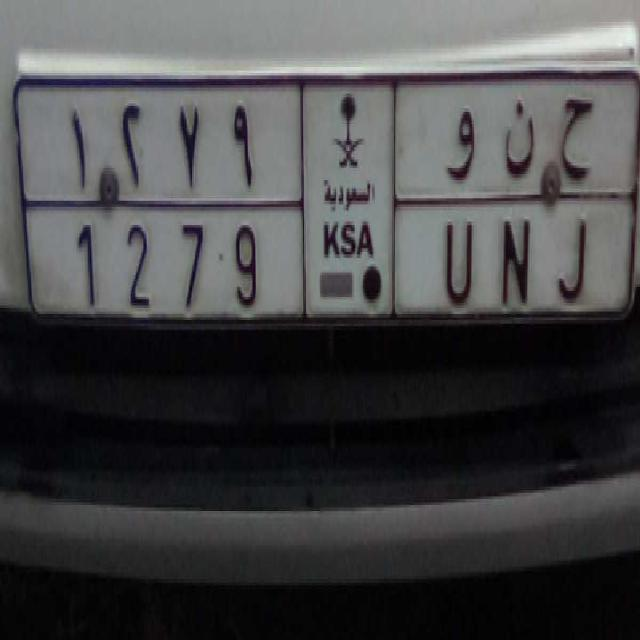license_plate: (55, 201, 630, 326)
